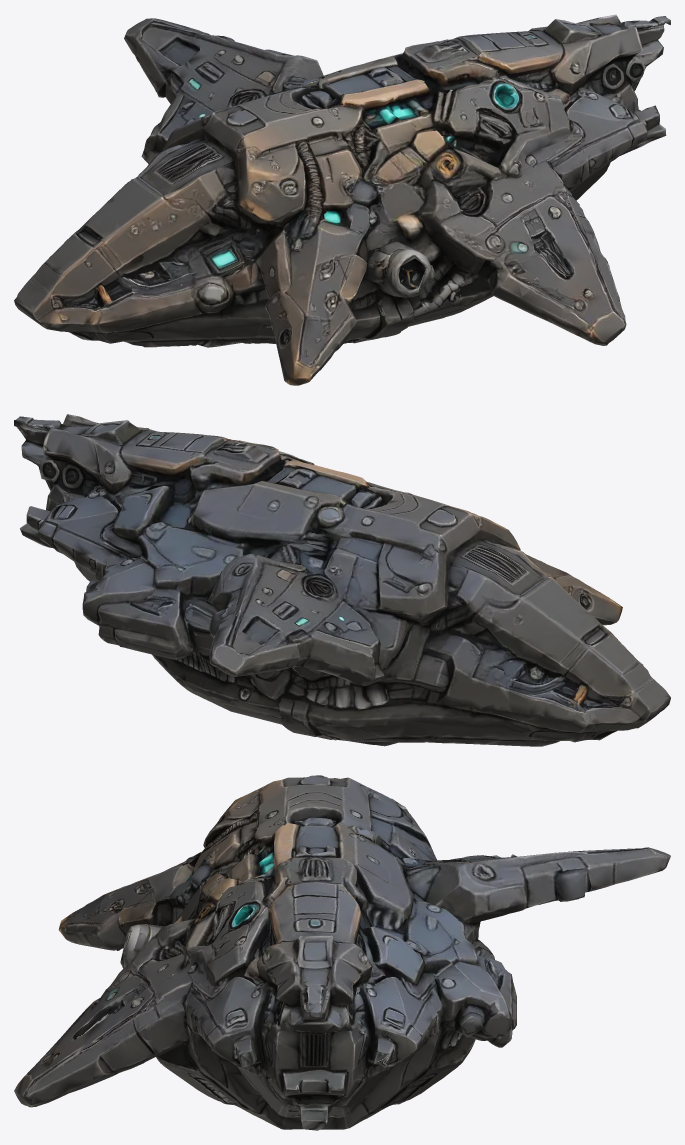
The model's file is enemy_raider.glb.
The picture shows the model from 3 angles, top to bottom: view 1: azimuth 30°, elevation 25°; view 2: azimuth 150°, elevation 25°; view 3: azimuth 270°, elevation 25°; orthographic projection. The views are drawn at different scales.
Visible parts, largest first — view 1: tripo_node_663bc22f-04cb-4d55-b94f-4628f940cc99; view 2: tripo_node_663bc22f-04cb-4d55-b94f-4628f940cc99; view 3: tripo_node_663bc22f-04cb-4d55-b94f-4628f940cc99.
Boxes of the visible parts, box(x1,y1,x2,y2) form: tripo_node_663bc22f-04cb-4d55-b94f-4628f940cc99: box(14, 14, 670, 385); tripo_node_663bc22f-04cb-4d55-b94f-4628f940cc99: box(14, 414, 670, 746); tripo_node_663bc22f-04cb-4d55-b94f-4628f940cc99: box(14, 775, 670, 1130).
Size of the model in its own units: 0.9999 by 0.3438 by 0.8091.
Materials: 1 (1 with a texture image).
